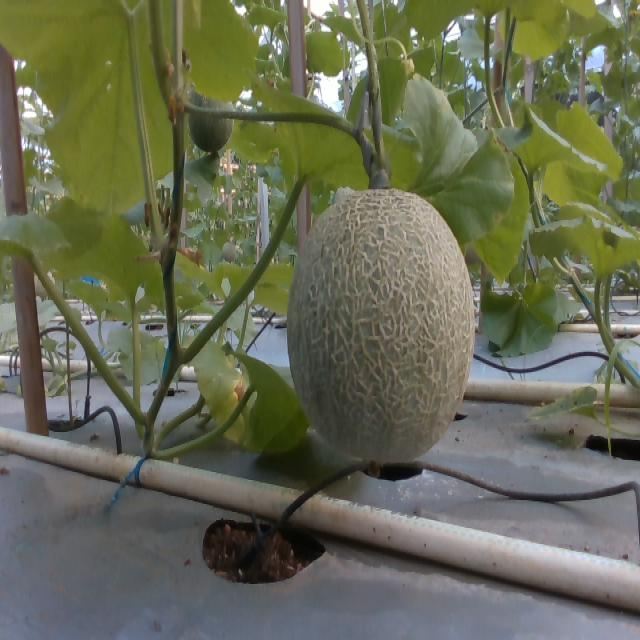melon: (288, 189, 475, 462)
